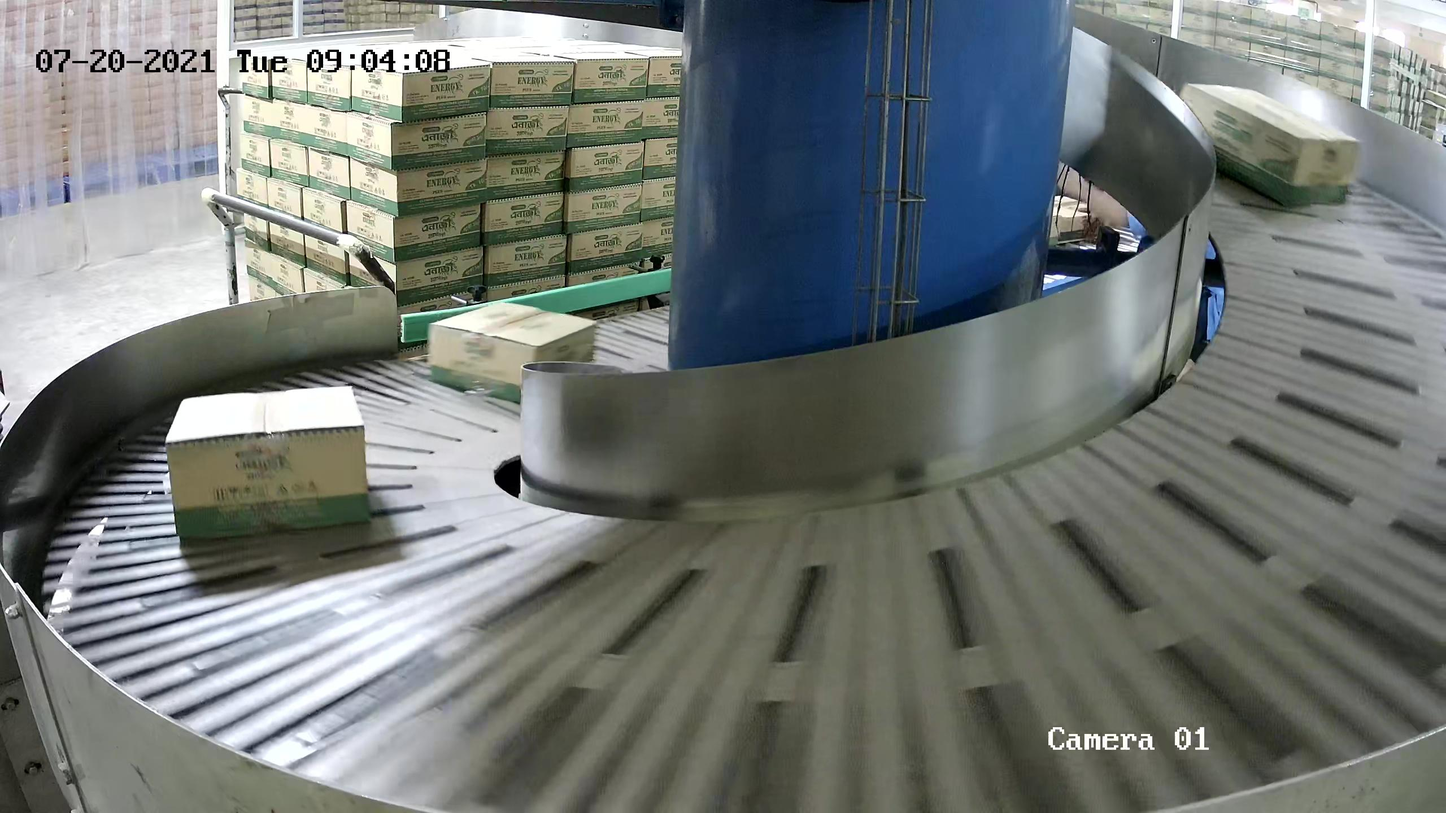Box: (163, 384, 374, 539), (1172, 81, 1363, 213), (427, 300, 598, 406)
